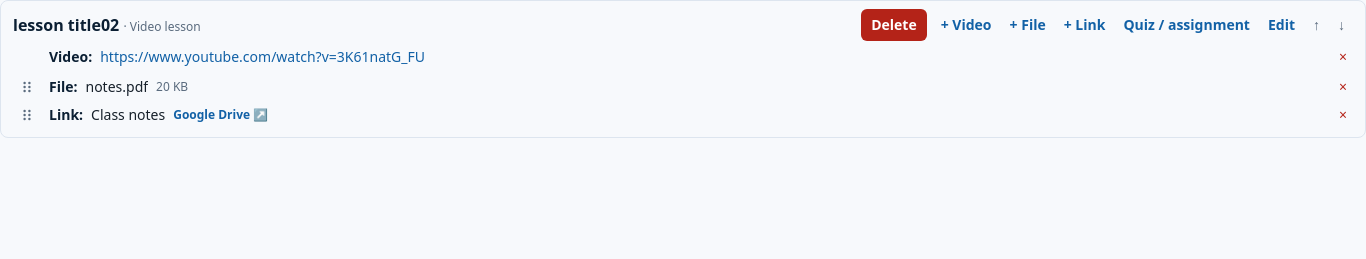
Test: LessonCard › opens the Media picker from + File
Click the button "+ File". click: (1028, 25)
box: [1002,9,1054,41]
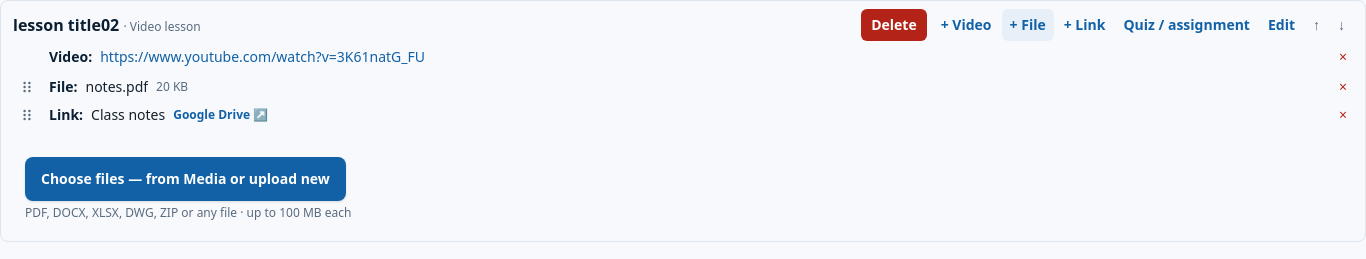
Now the button "Choose files — from Media or upload new" is shown, box [25,157,346,201]
